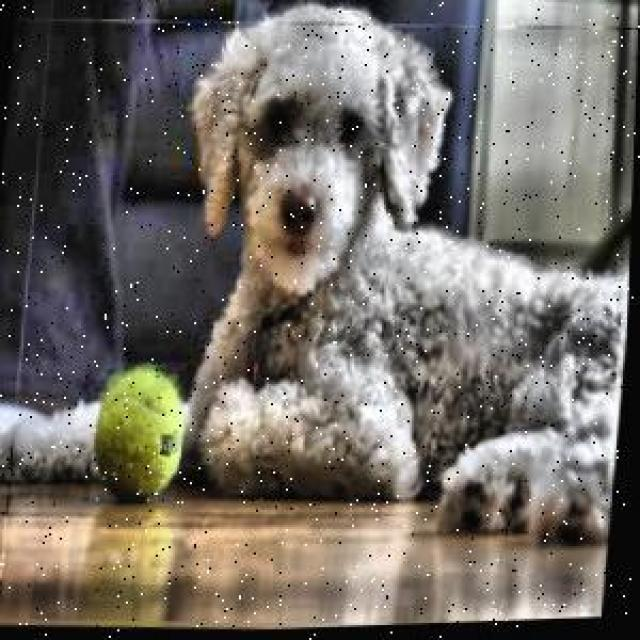tennis-ball: (93, 360, 191, 507)
